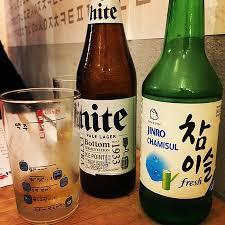soju: (138, 1, 224, 225)
